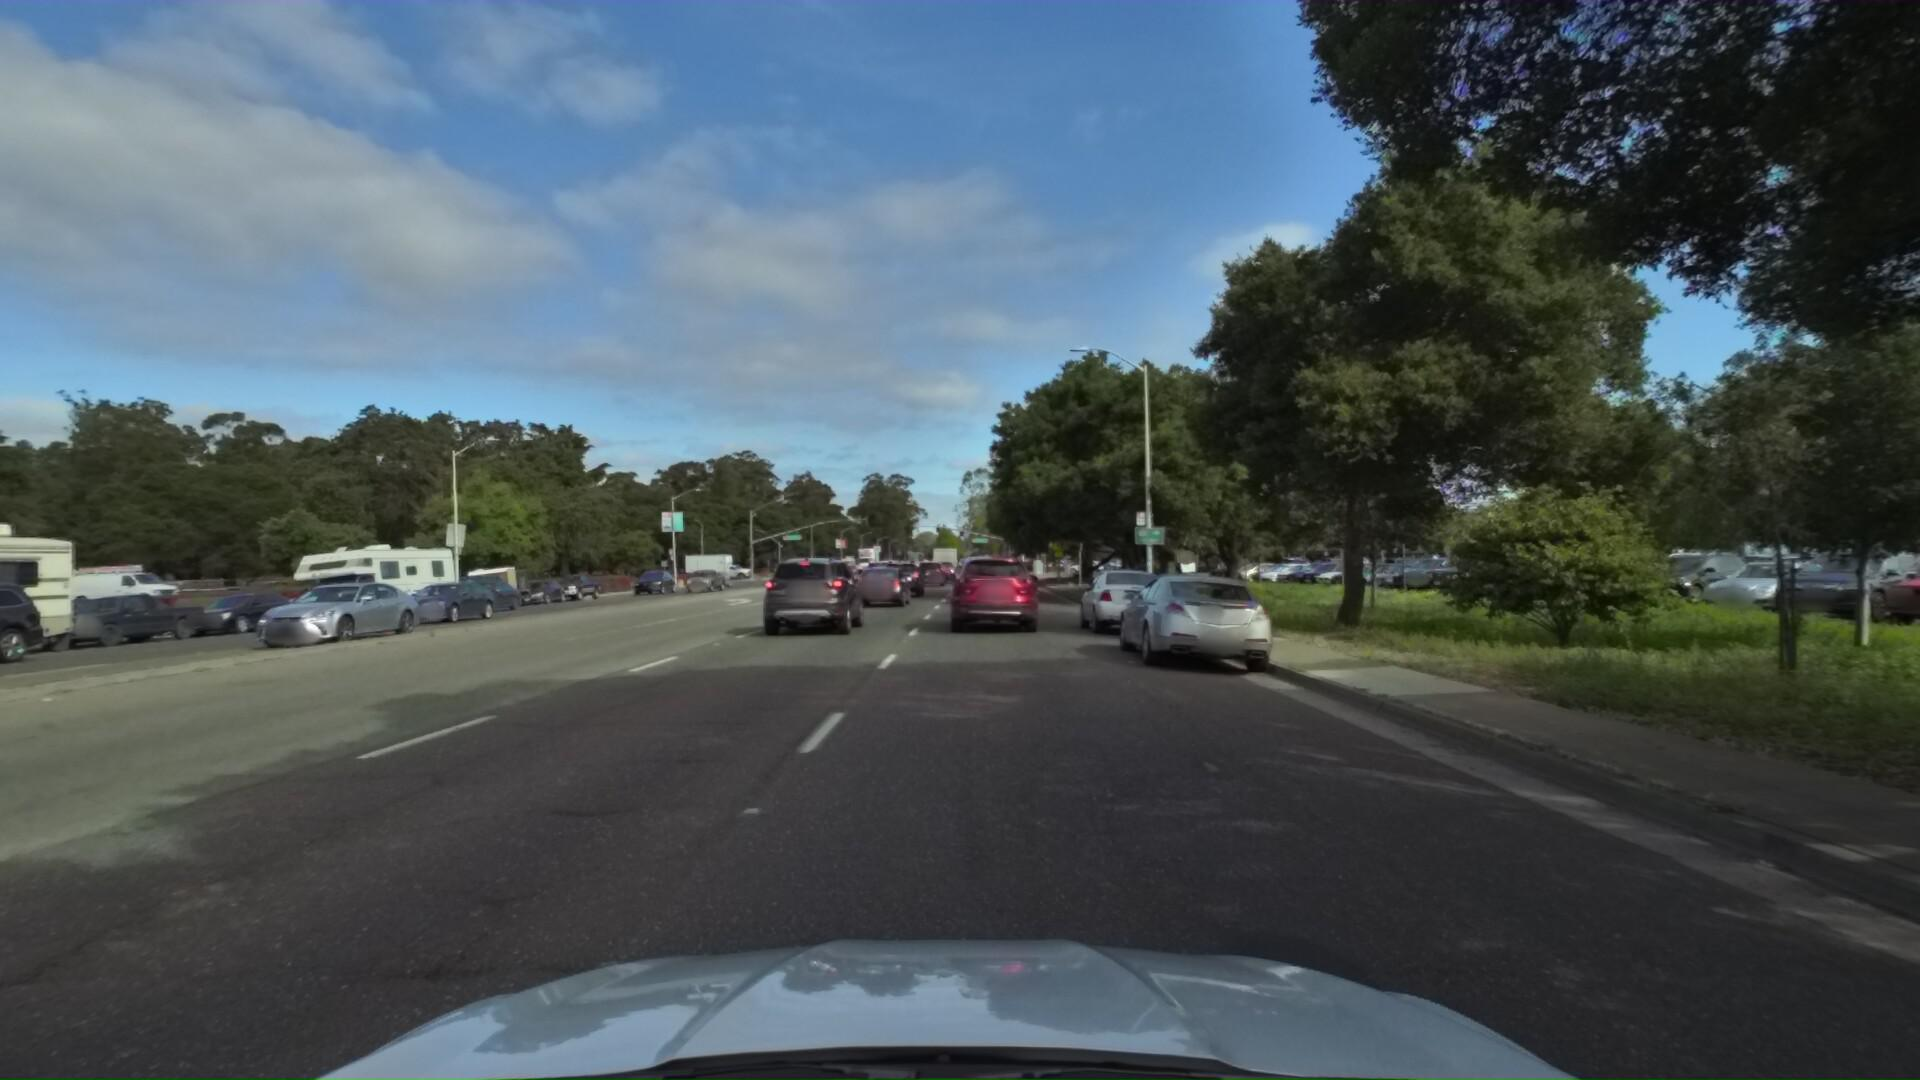car: (1109, 564, 1288, 678), (210, 578, 411, 663), (17, 588, 204, 659), (750, 551, 866, 641), (940, 551, 1046, 641), (161, 585, 303, 640), (1073, 562, 1175, 636), (367, 579, 492, 626), (429, 563, 531, 611), (429, 574, 520, 617), (852, 563, 915, 613), (873, 560, 926, 603), (539, 570, 601, 603), (0, 582, 16, 694), (509, 578, 567, 607), (624, 570, 673, 597), (675, 566, 724, 593), (909, 562, 945, 589)
other_vehicle: (265, 535, 460, 626), (0, 495, 76, 699)
